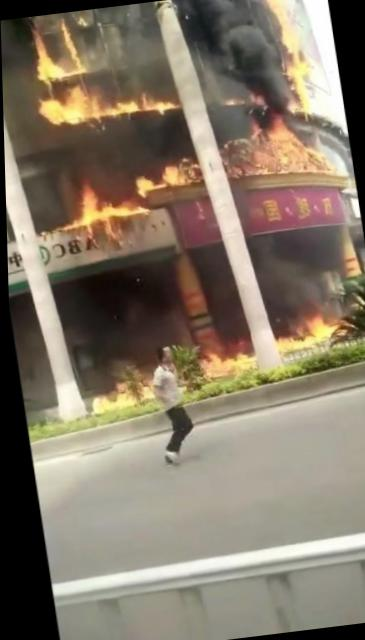fire: (283, 32, 312, 109), (197, 349, 255, 379), (59, 81, 98, 124), (304, 312, 340, 346), (77, 178, 103, 224), (99, 196, 148, 218), (60, 19, 80, 62), (264, 112, 294, 140), (33, 56, 65, 80), (38, 98, 62, 126), (274, 332, 309, 351), (134, 172, 165, 193), (111, 382, 136, 406), (155, 166, 187, 184), (86, 394, 114, 414), (114, 96, 142, 115), (147, 96, 175, 112), (32, 28, 48, 56), (95, 105, 116, 117), (68, 63, 86, 73)
